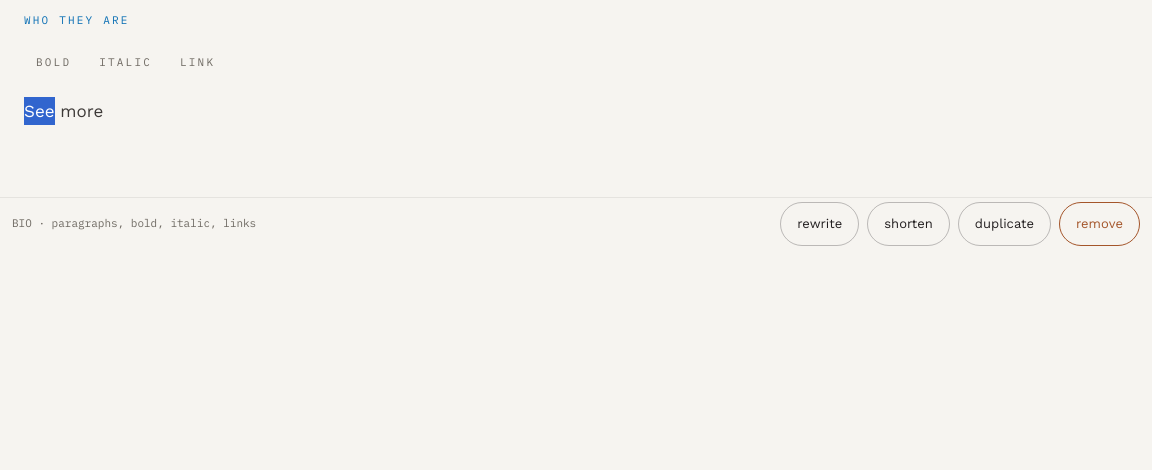
Test: BioEditor › links the selection to an http(s) address and refuses anything else with a sentence
This screenshot has width=1152, height=470.
Click the button "Link" at coordinates (198, 62), box left=168, top=40, right=227, bottom=84
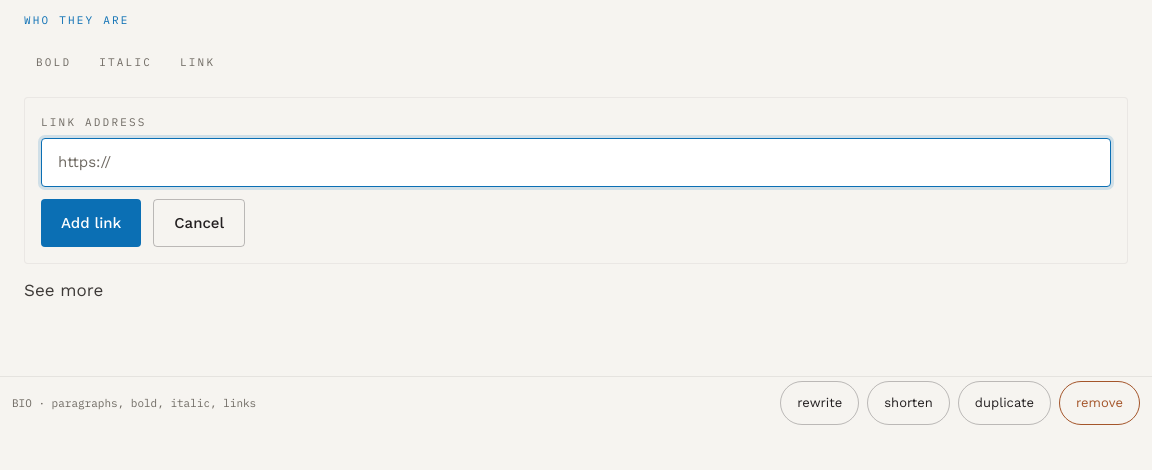
Type "javascript:alert(1)" into the field labelled "Link address" at coordinates (576, 162), box left=41, top=138, right=1111, bottom=186
Then press Enter
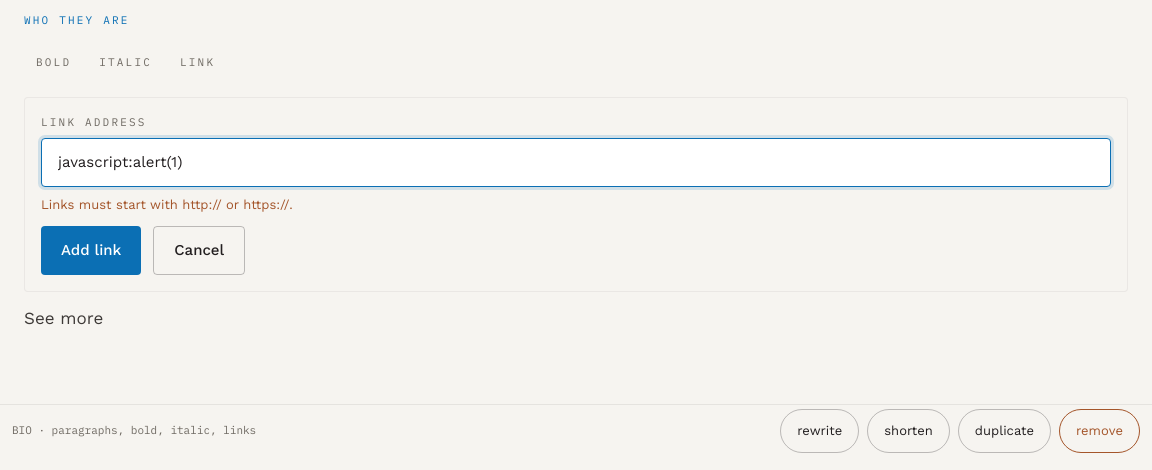
Expected: the message reads "Links must start with http:// or https://.", left=41, top=196, right=293, bottom=212
Replace the text in the field labelled "Link address" with "https://example.org/cats" at coordinates (576, 162), box left=41, top=138, right=1111, bottom=186
Then press Enter
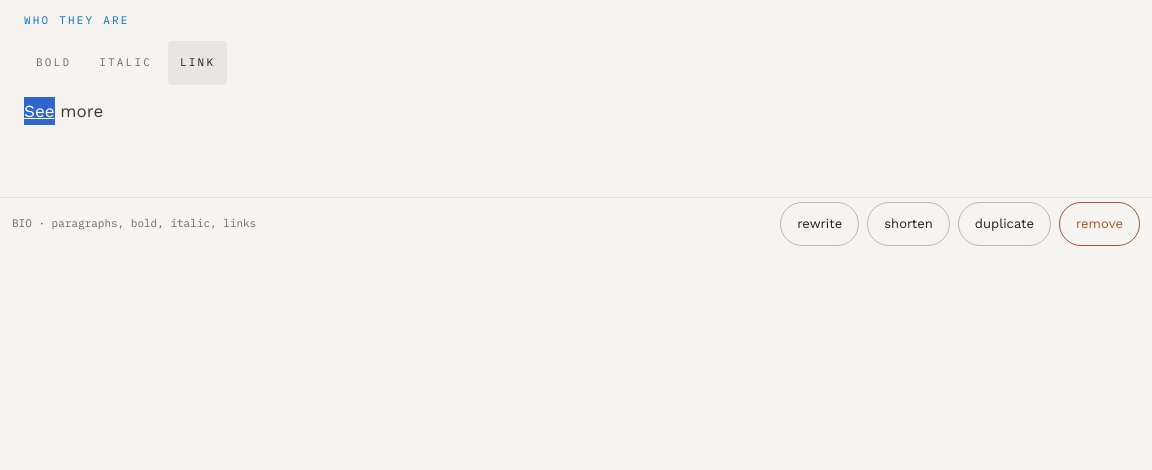
Expected: the label "Link address" is gone
